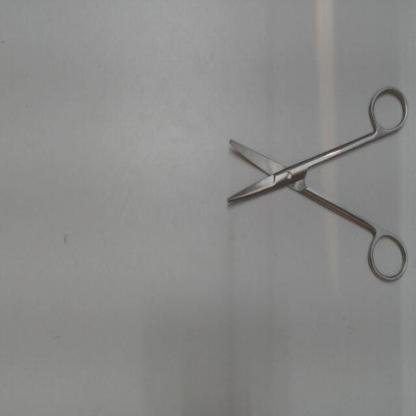Curved Mayo Scissors: (217, 77, 412, 293)
